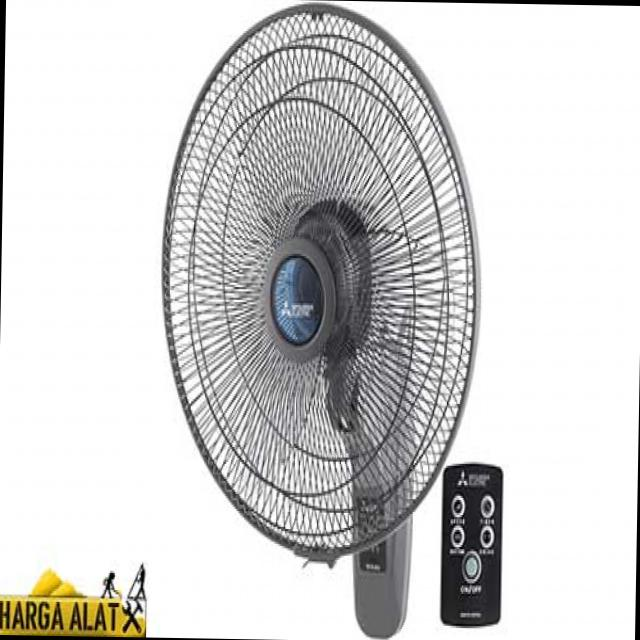fan: (141, 0, 498, 640)
